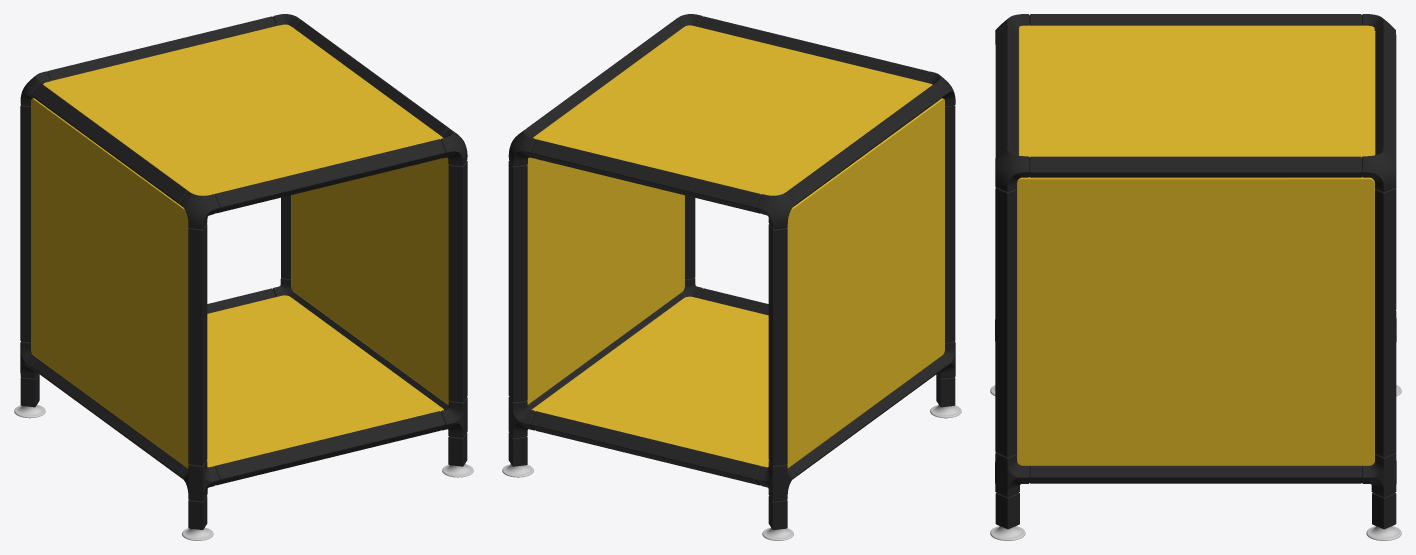
3 views of the same model, side by side, from view 1: azimuth 30°, elevation 25°; view 2: azimuth 150°, elevation 25°; view 3: azimuth 270°, elevation 25° (orthographic). The views are drawn at different scales.
Parts seen in each view (by area): view 1: 329x374x329; view 2: 329x374x329; view 3: 329x374x329.
Boxes of the visible parts, <box> form: 329x374x329: <box>14,14,473,540</box>; 329x374x329: <box>502,14,961,540</box>; 329x374x329: <box>990,14,1401,540</box>.
Bounding box in the file's own units: 0.4189 × 0.4683 × 0.4632.
